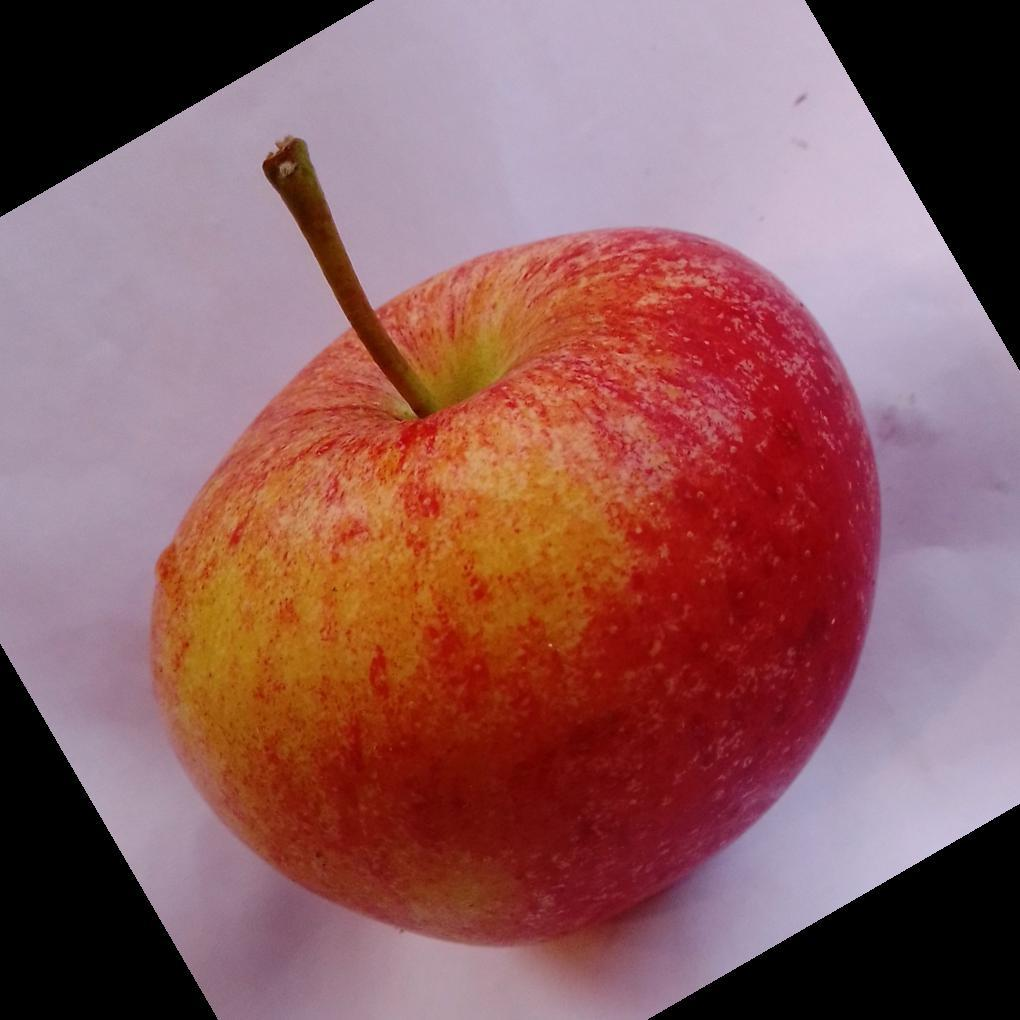FreshGuava: (146, 228, 882, 951)
